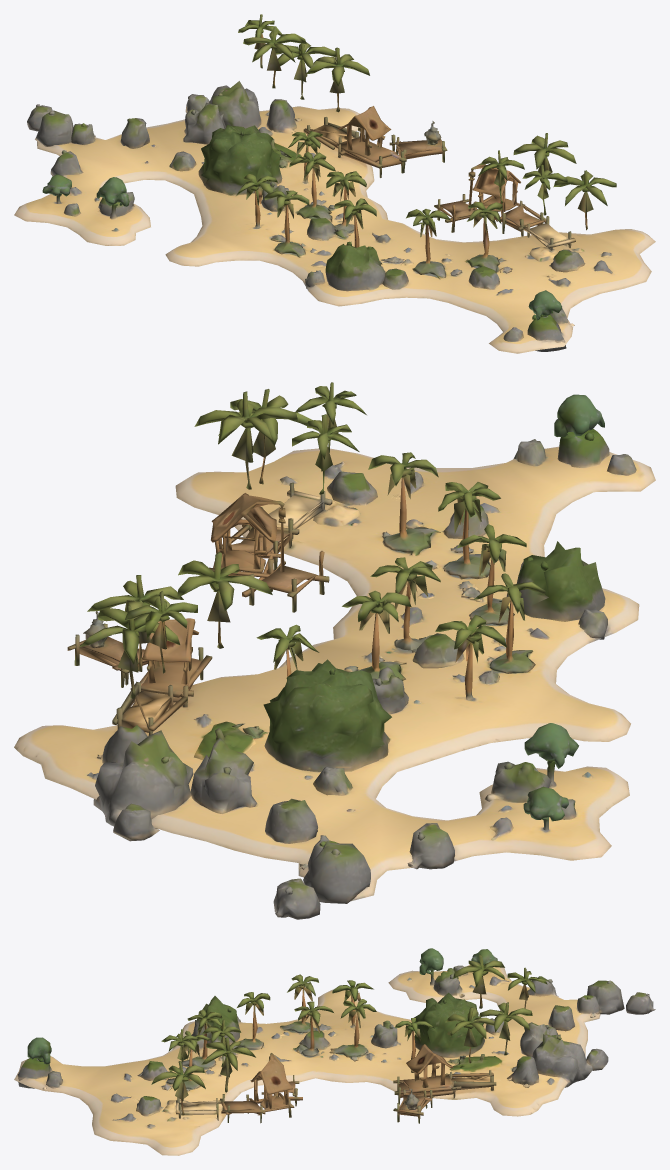
Rendered from isle_02_p1.glb.
3 views of the same model, one above another, from view 1: azimuth 30°, elevation 25°; view 2: azimuth 150°, elevation 25°; view 3: azimuth 270°, elevation 25° (orthographic). The views are drawn at different scales.
Visible parts, largest first — view 1: tripo_node_86e7cbb3-1c8e-48f4-b878-aa773564e77e; view 2: tripo_node_86e7cbb3-1c8e-48f4-b878-aa773564e77e; view 3: tripo_node_86e7cbb3-1c8e-48f4-b878-aa773564e77e.
Boxes of the visible parts, left/top/right/bottom form: tripo_node_86e7cbb3-1c8e-48f4-b878-aa773564e77e: left=14, top=14, right=655, bottom=353; tripo_node_86e7cbb3-1c8e-48f4-b878-aa773564e77e: left=14, top=382, right=655, bottom=919; tripo_node_86e7cbb3-1c8e-48f4-b878-aa773564e77e: left=14, top=948, right=655, bottom=1155.
Bounding box in the file's own units: 0.7168 × 0.2051 × 0.998.
1 material, 1 textured.
